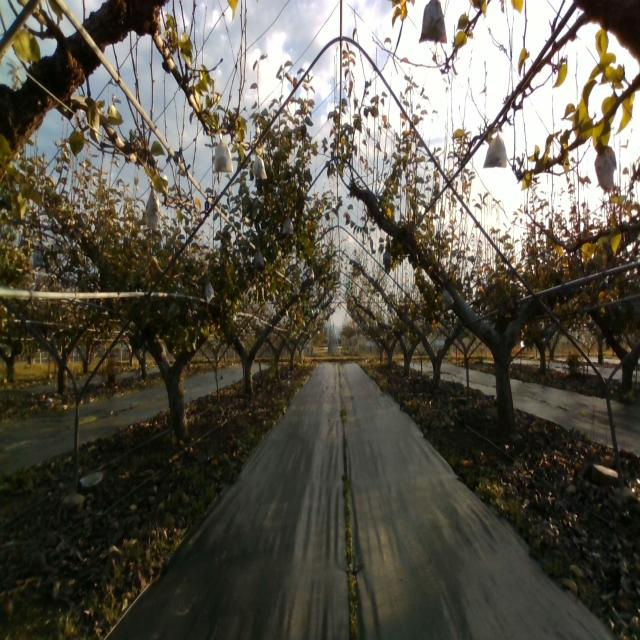pearbags: (418, 0, 446, 44), (595, 145, 617, 195), (483, 129, 507, 168), (214, 132, 232, 174), (146, 179, 160, 232), (252, 150, 267, 181), (441, 288, 455, 310), (282, 213, 294, 236), (205, 281, 216, 306), (254, 247, 265, 271)
